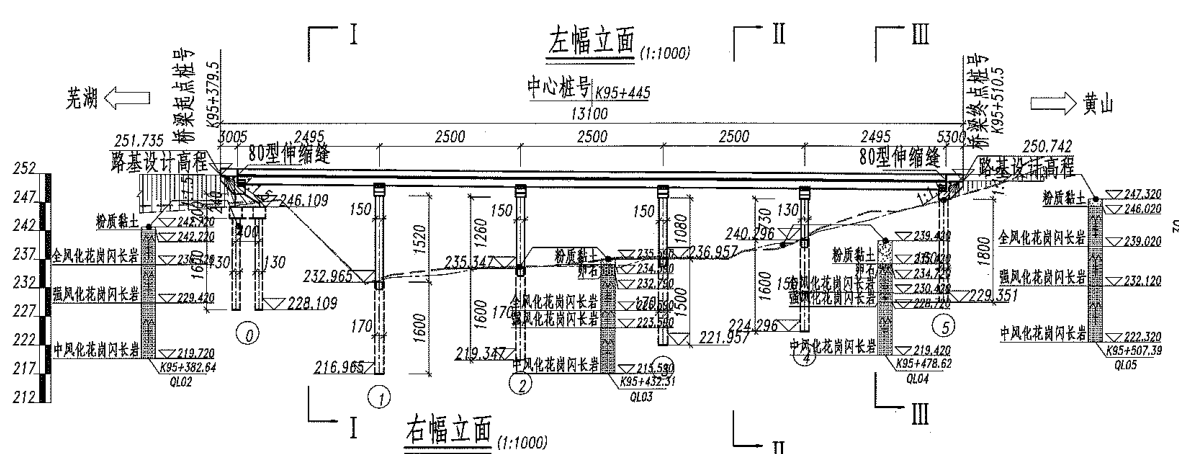A: (213, 104, 965, 130)
C: (299, 181, 401, 415), (441, 181, 535, 403), (721, 182, 817, 373), (898, 179, 956, 338), (634, 181, 677, 382)
